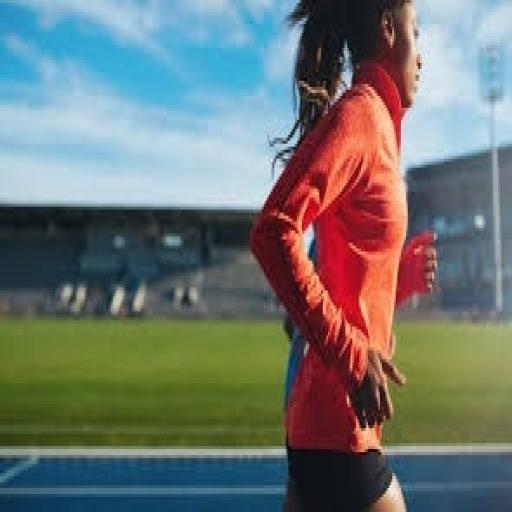running: (248, 0, 441, 509)
